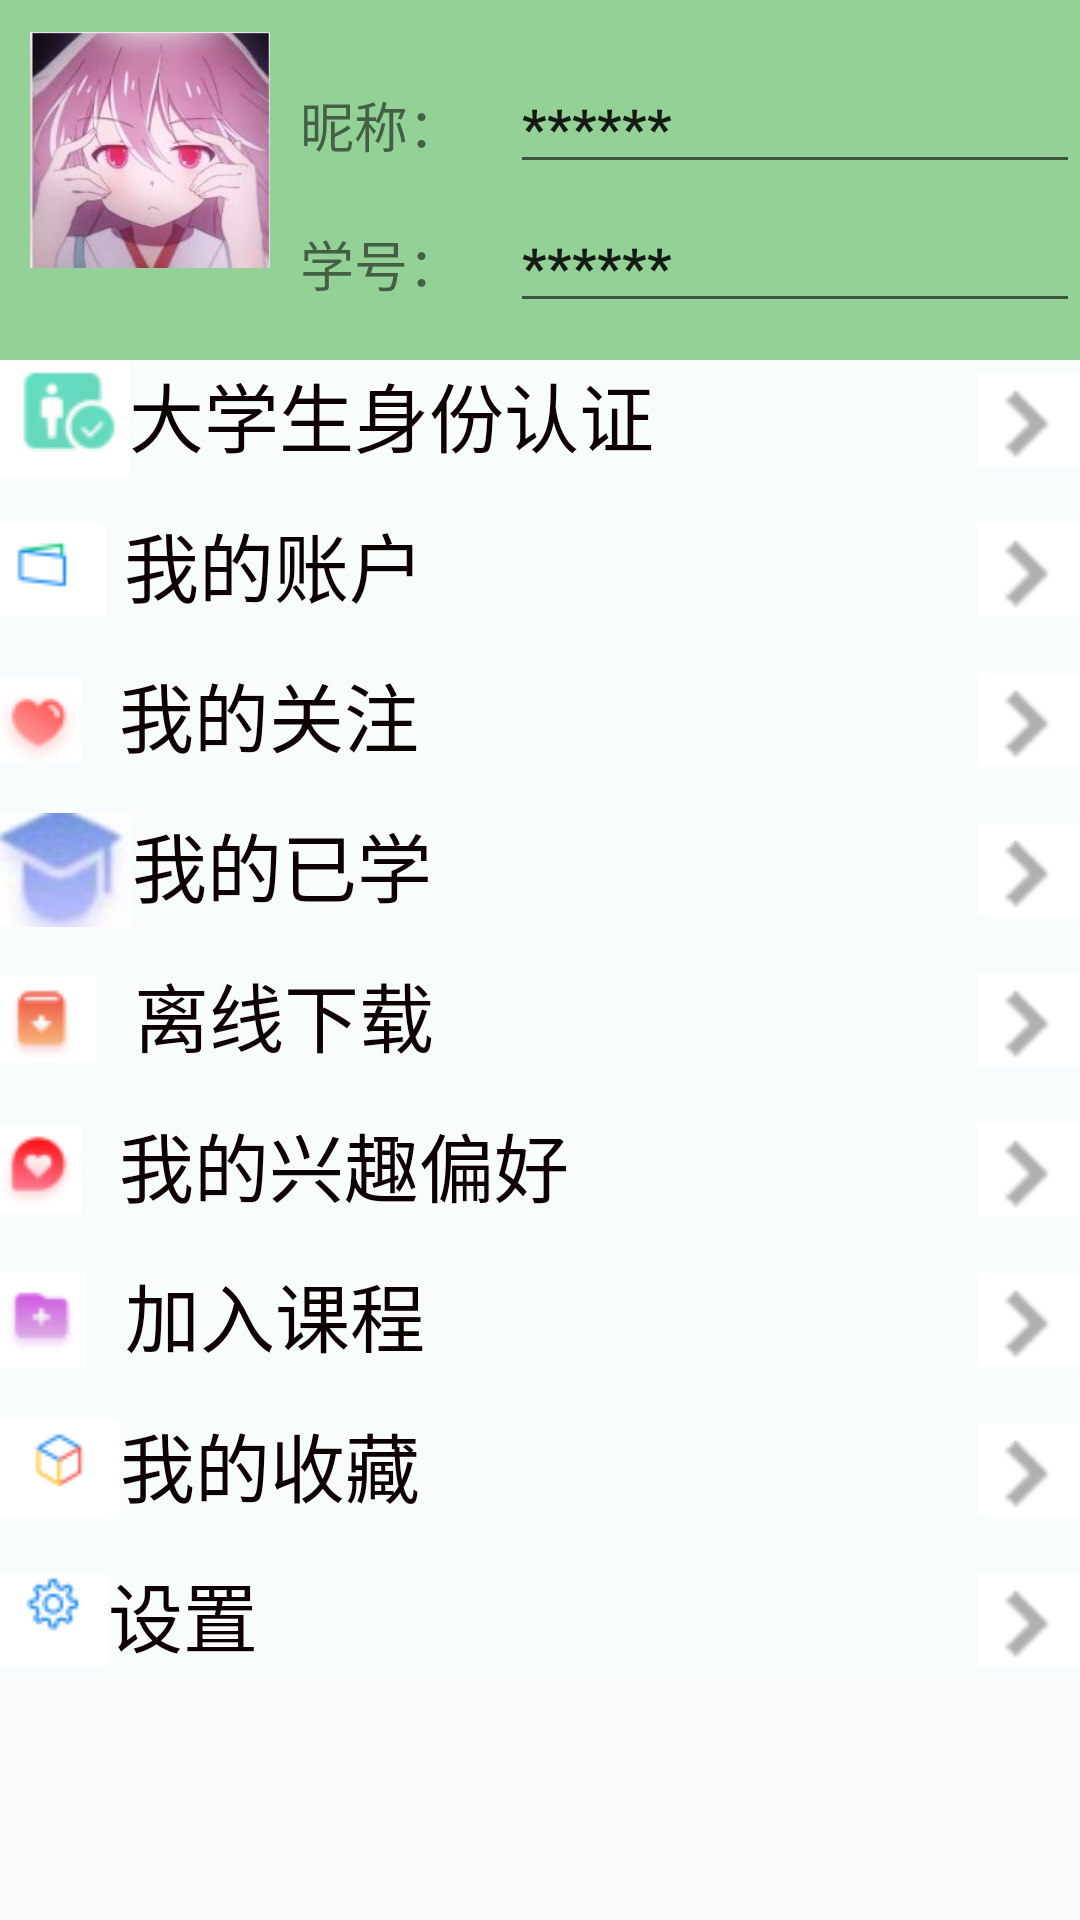

Point at icon controls on the screen. Image size 1080 × 1920, points as (x=x, y=y).
touxiang: (x=150, y=150)
